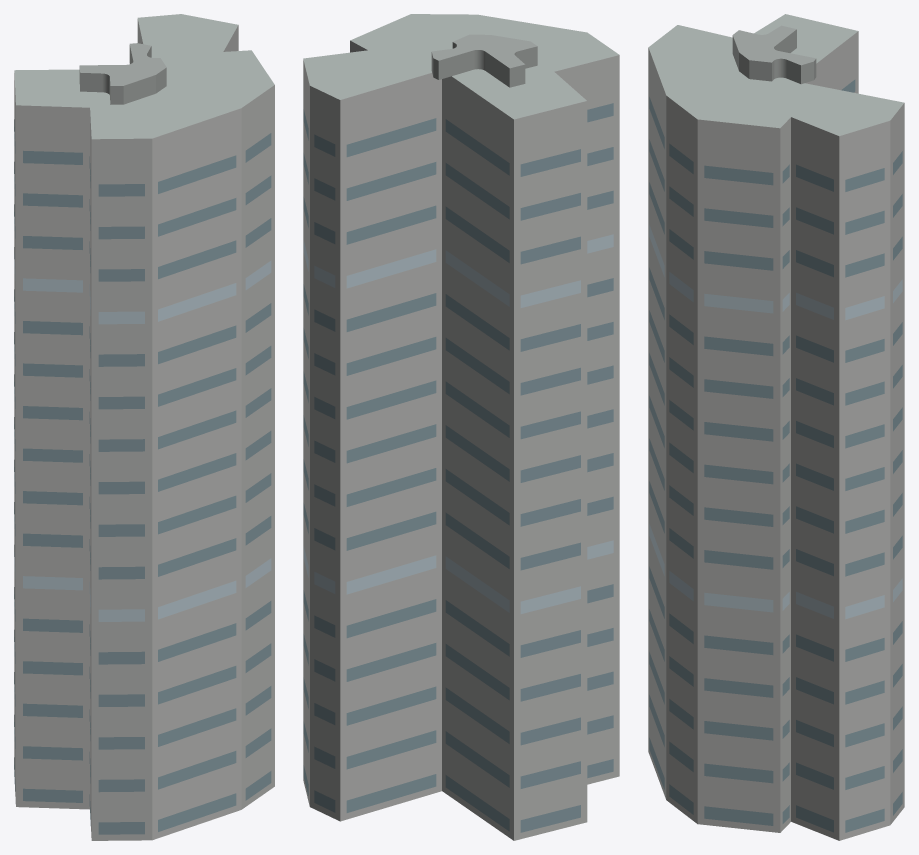
Rendered from fallback-jamsil-parkrio-309.glb.
The picture shows the model from 3 angles, left to right: view 1: azimuth 30°, elevation 25°; view 2: azimuth 150°, elevation 25°; view 3: azimuth 270°, elevation 25°; orthographic projection. The views are drawn at different scales.
Visible parts, largest first — view 1: fallback-jamsil-parkrio-309; view 2: fallback-jamsil-parkrio-309; view 3: fallback-jamsil-parkrio-309.
Part boxes in pixels (x1=…): fallback-jamsil-parkrio-309: x1=14, y1=14, x2=274, y2=840; fallback-jamsil-parkrio-309: x1=303, y1=14, x2=619, y2=840; fallback-jamsil-parkrio-309: x1=648, y1=14, x2=904, y2=840.
Size of the model in its own units: 33.33 by 92 by 29.51.
